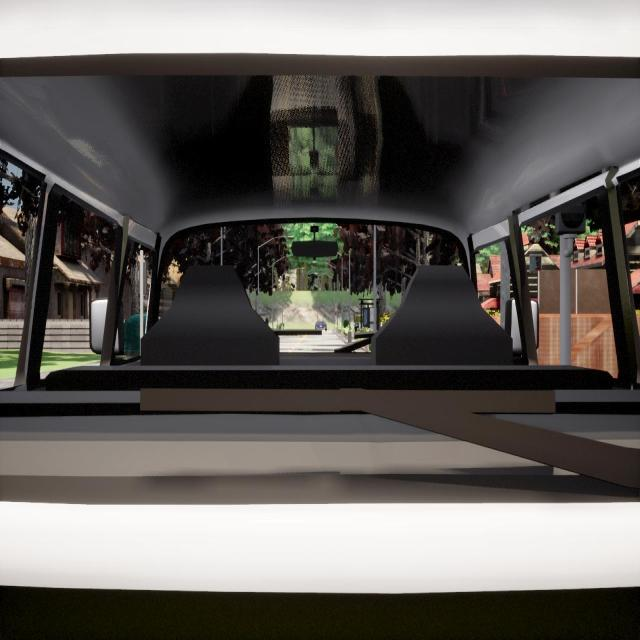Vehicle: (0, 0, 640, 637), (315, 320, 327, 331)
traffic_light: (558, 197, 587, 234), (138, 260, 147, 296), (335, 309, 337, 315)
